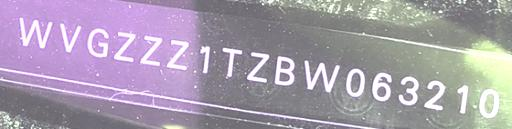letter: (301, 57, 341, 94), (17, 15, 55, 50), (164, 37, 190, 72), (245, 49, 271, 84), (86, 26, 110, 61), (58, 22, 82, 56), (112, 30, 136, 63), (138, 34, 162, 67), (219, 46, 243, 79), (422, 79, 446, 111), (344, 65, 366, 99), (477, 87, 499, 120), (273, 55, 295, 88), (371, 71, 393, 104), (397, 75, 419, 107), (197, 43, 213, 74), (455, 82, 469, 114)
